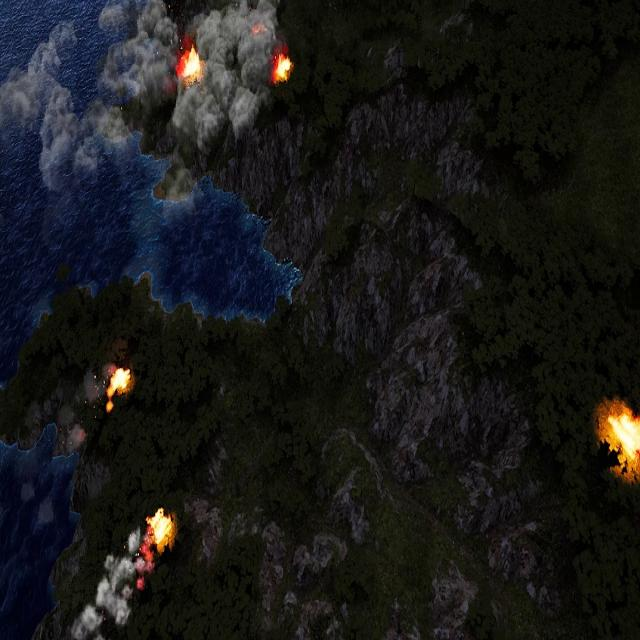fire: (606, 408, 640, 466), (146, 510, 174, 552), (175, 46, 202, 84), (108, 367, 130, 406), (273, 55, 293, 85)
smoke: (0, 0, 278, 211), (62, 530, 150, 639), (52, 354, 111, 462)
